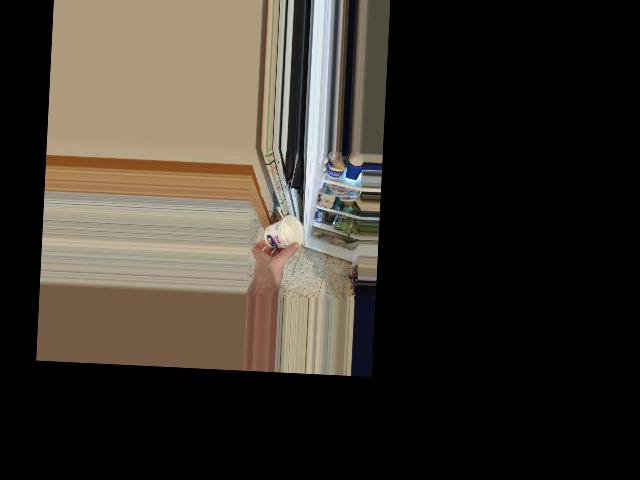cotage: (267, 212, 300, 249)
